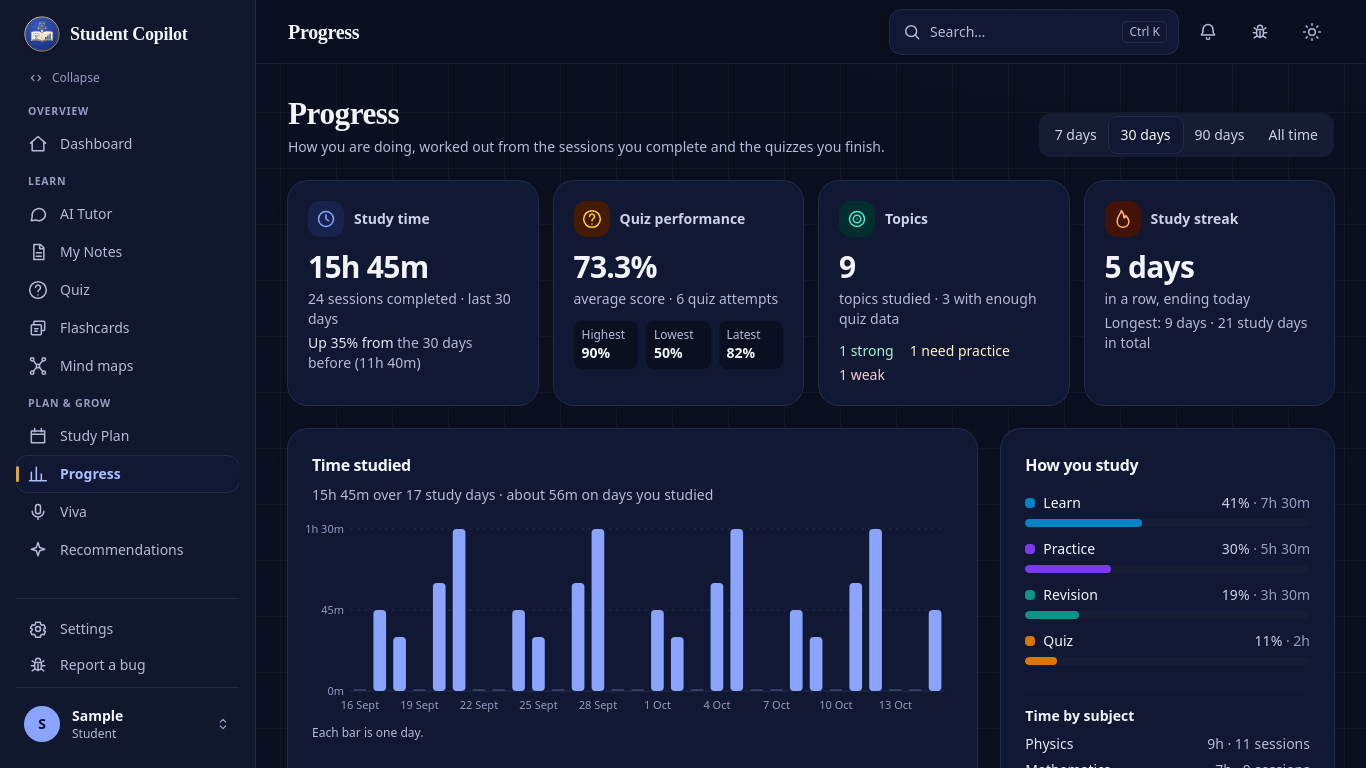
Test: date range › defaults to 30 days and asks the server for the chosen range, keeping the old numbers while loading
The width and height of the screenshot is (1366, 768).
expect the element "Quiz performance" is shown: met, box top-left (554, 181), bottom-right (803, 405)
Click the button "7 days": x=1076, y=135 top-left (1043, 117), bottom-right (1109, 153)
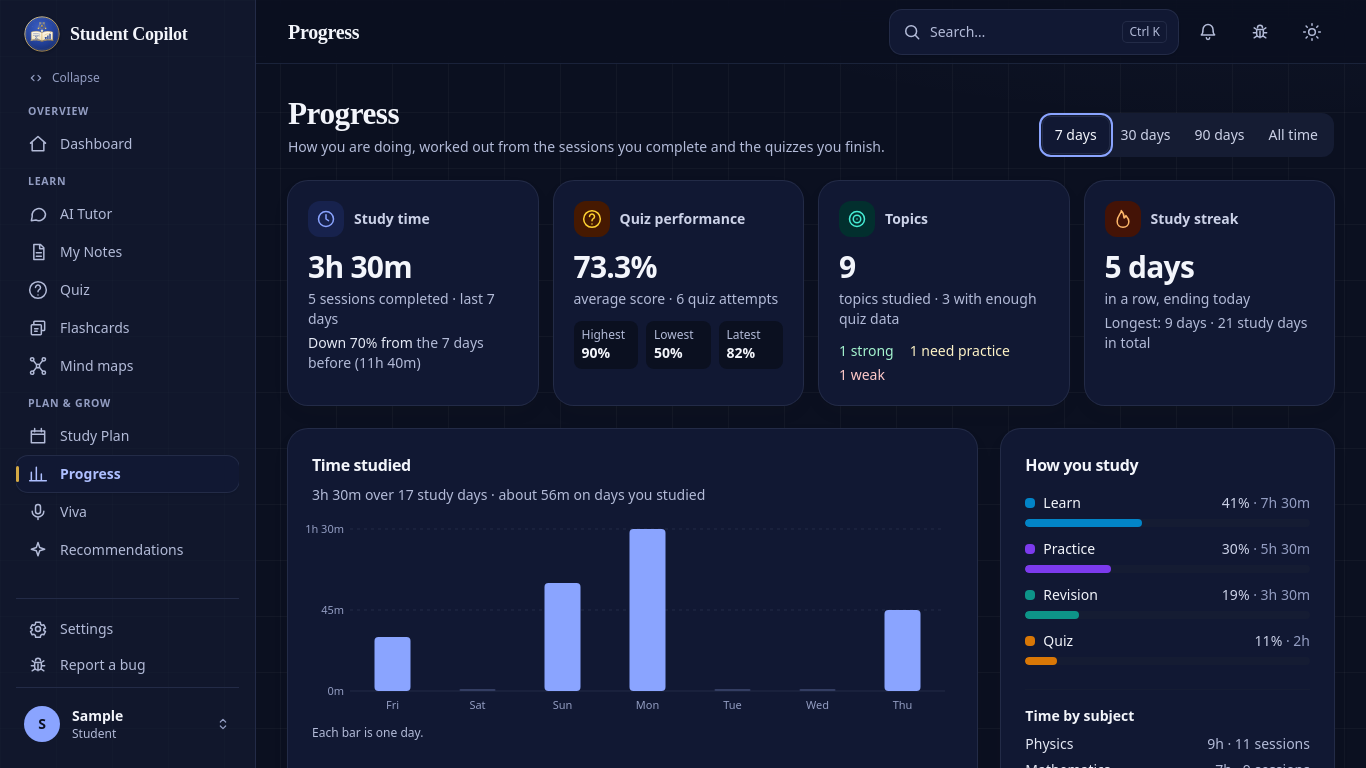
expect the text "5 sessions completed · last 7 days" is shown: met, box top-left (308, 289), bottom-right (518, 329)
Click the button "90 days": x=1220, y=135 top-left (1183, 117), bottom-right (1257, 153)
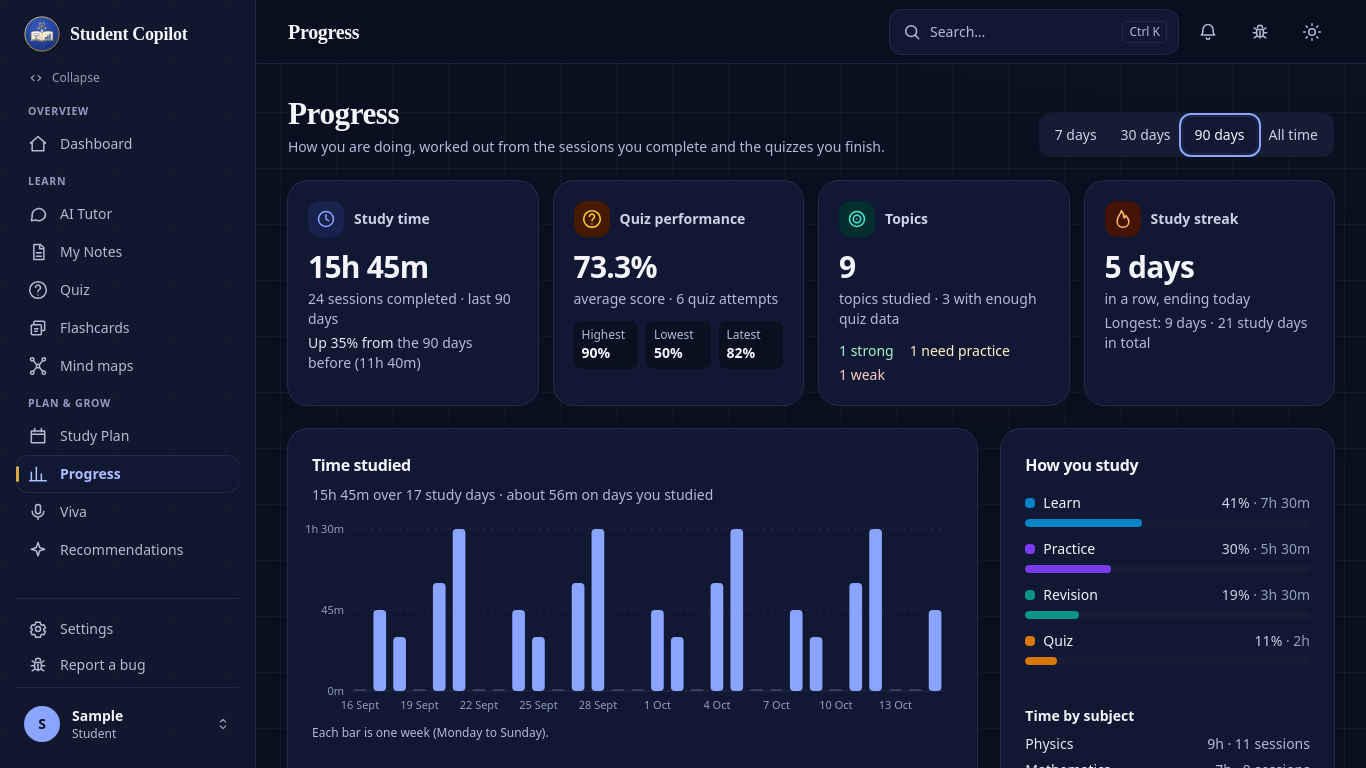
Click the button "All time": x=1293, y=135 top-left (1256, 117), bottom-right (1330, 153)
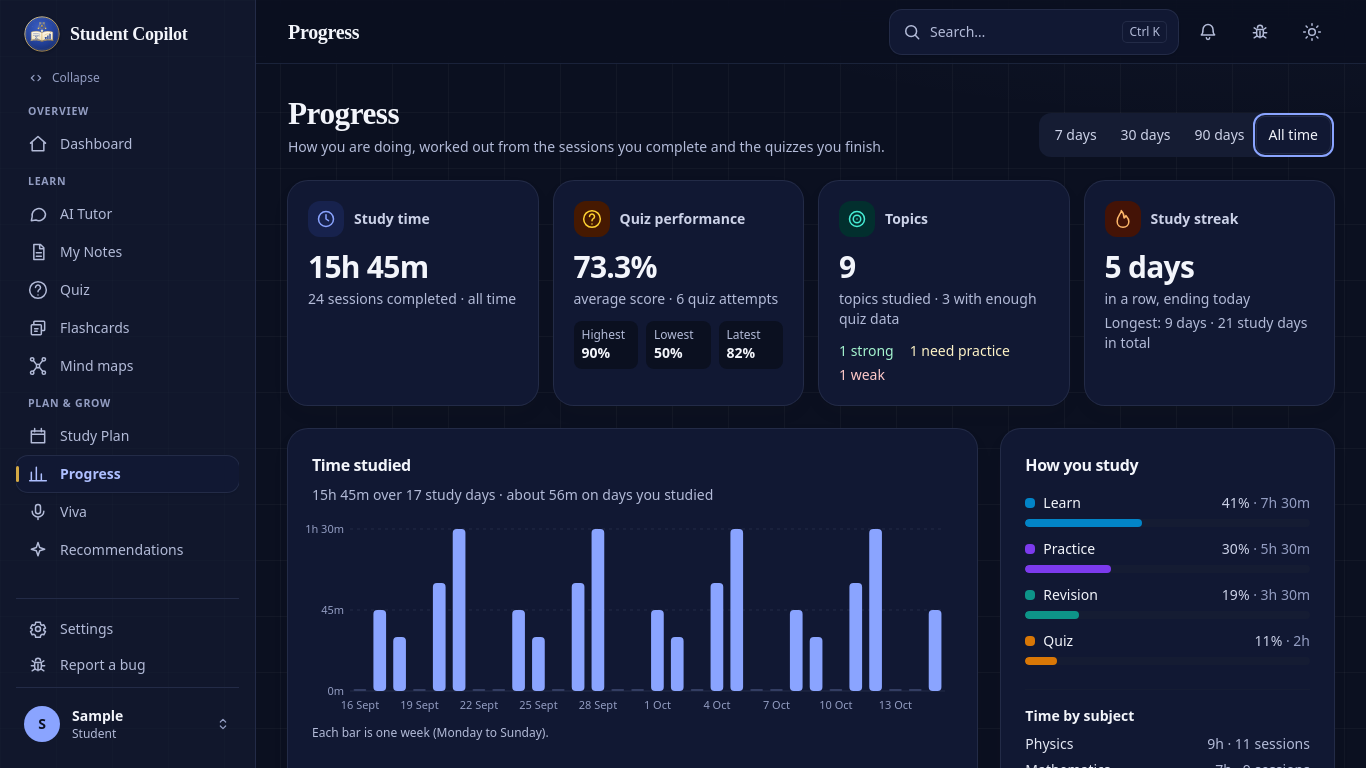
expect the text "24 sessions completed · all time" is shown: met, box top-left (308, 289), bottom-right (518, 309)
expect the text "Up 35% from" is gone: met
